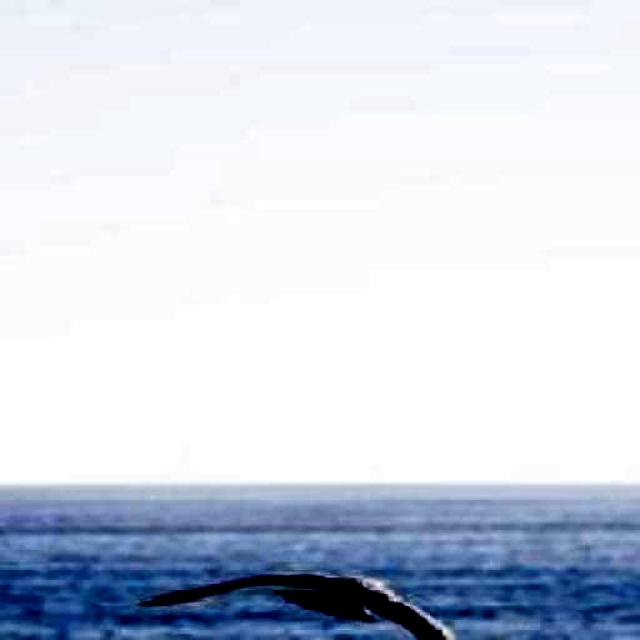airplane: (138, 570, 525, 640)
